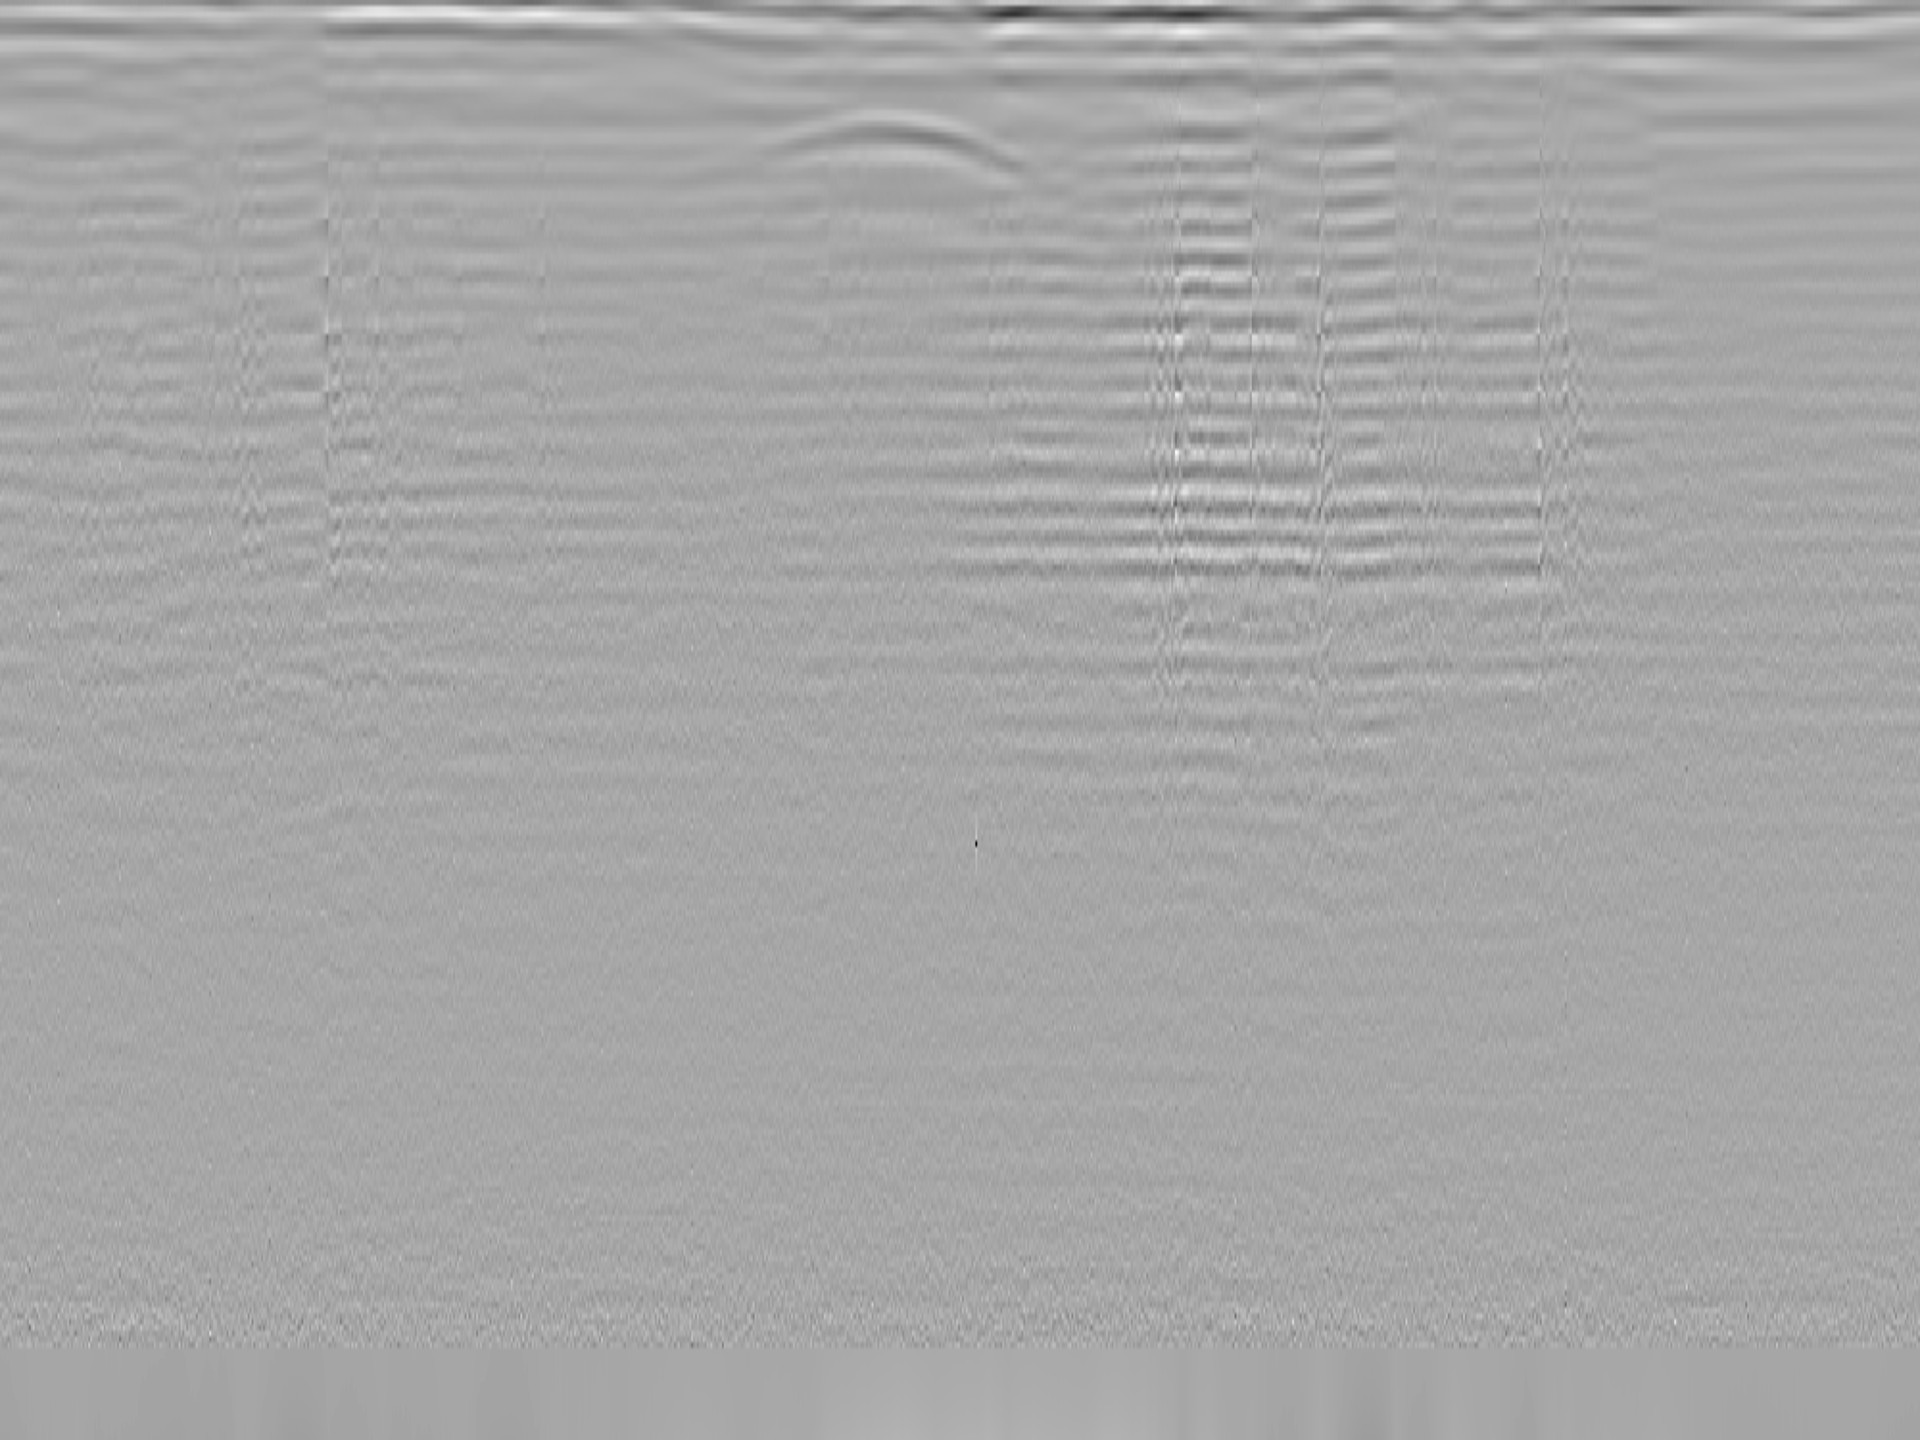Tunnel: (650, 104, 1093, 219)
